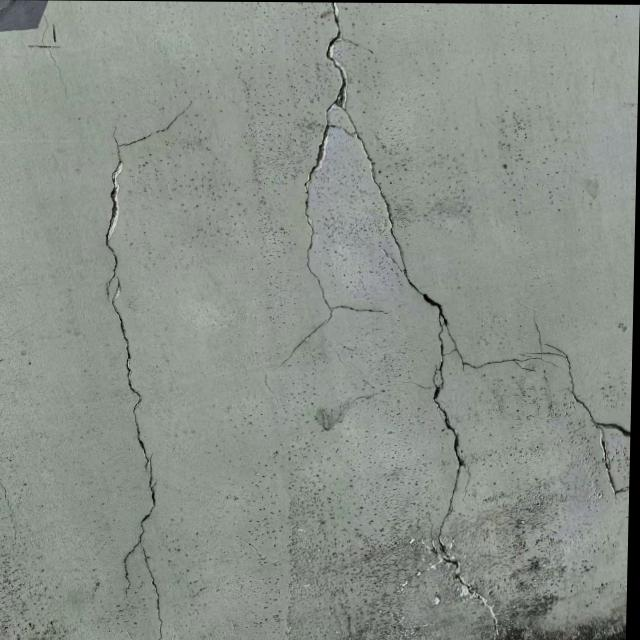crack: (272, 9, 629, 640), (101, 96, 216, 632)
